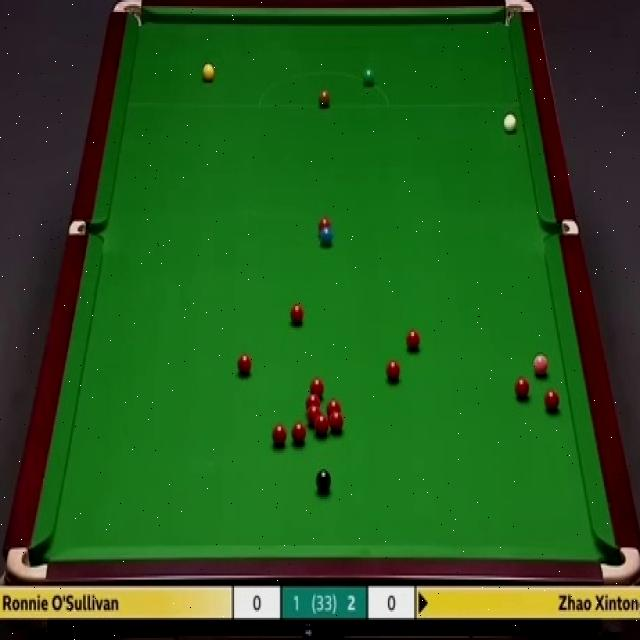black-ball: (316, 467, 332, 497)
blue-ball: (317, 224, 332, 245)
brown-ball: (318, 88, 331, 109)
green-ball: (362, 68, 375, 87)
pink-ball: (533, 352, 549, 378)
red-ball: (236, 352, 254, 379), (291, 420, 307, 448), (270, 423, 287, 447), (516, 376, 532, 401), (385, 360, 401, 384), (544, 390, 561, 412), (329, 411, 344, 435), (289, 304, 305, 326), (407, 328, 421, 353), (315, 414, 328, 436), (308, 378, 325, 394), (307, 406, 321, 425), (306, 393, 320, 409), (327, 402, 341, 414), (319, 218, 331, 231)
white-ball: (502, 110, 520, 135)
yellow-ball: (203, 64, 216, 84)
